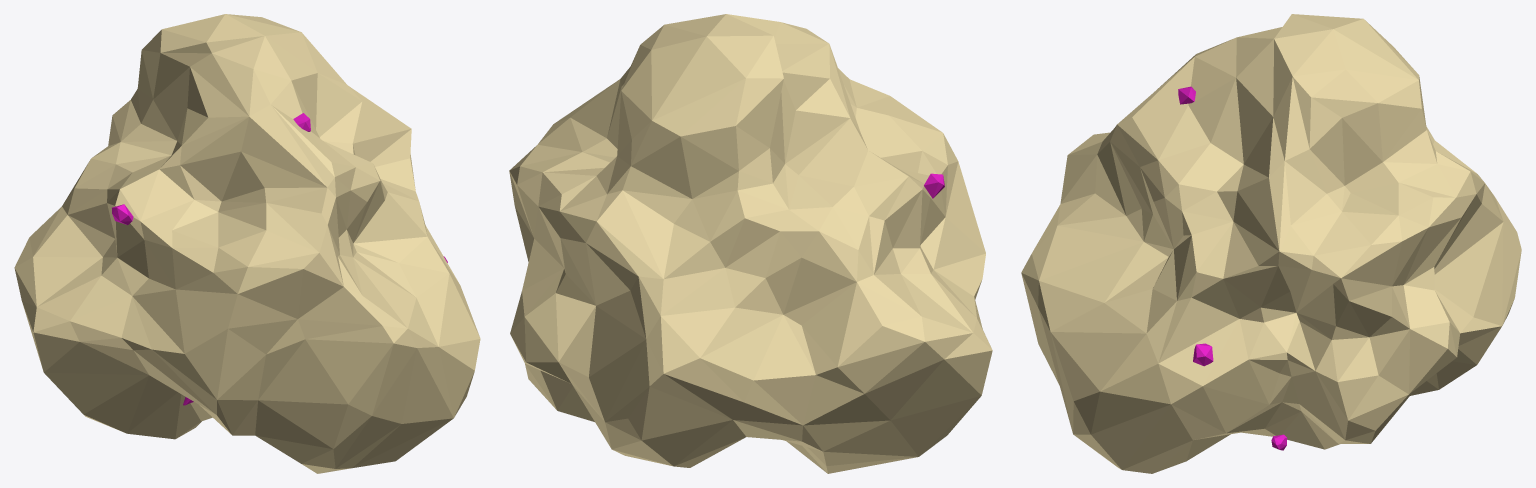
File: CrystalOre (12).fbx
3 renders of one model, left to right at view 1: azimuth 30°, elevation 25°; view 2: azimuth 150°, elevation 25°; view 3: azimuth 270°, elevation 25°, orthographic. The views are drawn at different scales.
Parts seen in each view (by area): view 1: Asteroid232; view 2: Asteroid232; view 3: Asteroid232.
Part boxes in pixels (x1,y1,x2,y2): Asteroid232: (14,14,480,473); Asteroid232: (509,14,992,473); Asteroid232: (1021,14,1521,473).
Size of the model in its own units: 331 by 321 by 352.
